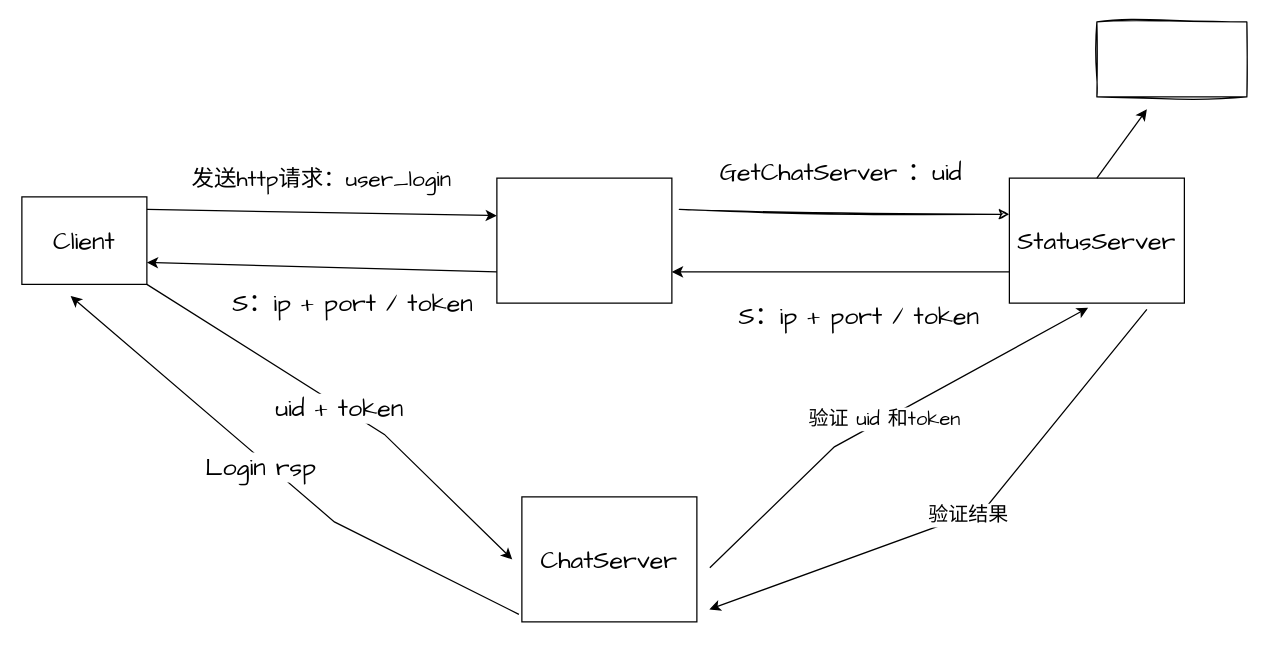
The diagram is 1269 pixels wide and 646 high, and some of its shapes have lost their labels. Each missing label, with the centre of its shape:
GateServer: the point at 584,240
uid：token: the point at 1171,59
